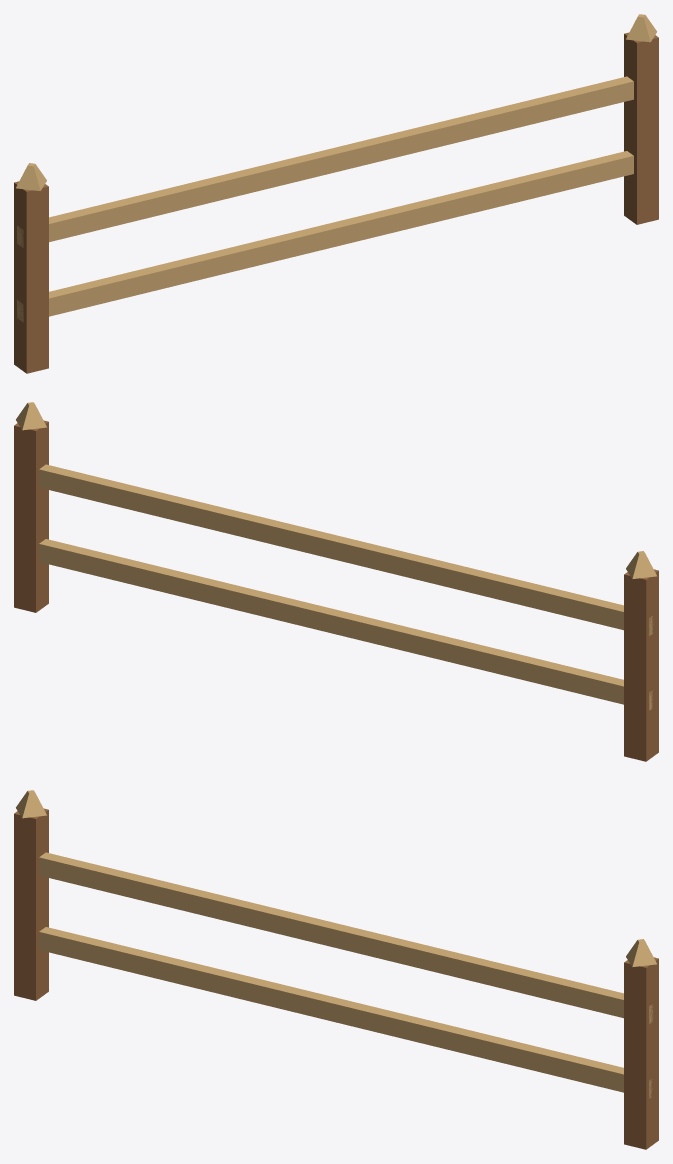
Rendered from TR3_Fence_Wood_4m.glb.
3 views of the same model, one above another, from view 1: azimuth 30°, elevation 25°; view 2: azimuth 150°, elevation 25°; view 3: azimuth 330°, elevation 25° (orthographic).
Parts seen in each view (by area): view 1: TR3_Fence_Wood_4m; view 2: TR3_Fence_Wood_4m; view 3: TR3_Fence_Wood_4m.
Boxes of the visible parts, x1,y1,x2,y2 form: TR3_Fence_Wood_4m: (14,14,658,373); TR3_Fence_Wood_4m: (14,402,658,761); TR3_Fence_Wood_4m: (14,790,658,1149).
Size of the model in its own units: 4.06 by 1.22 by 0.2.
